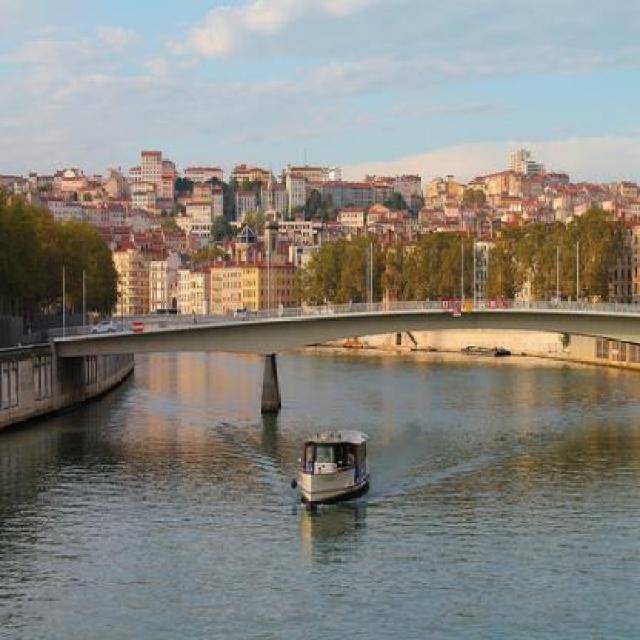ship: (292, 424, 370, 514)
